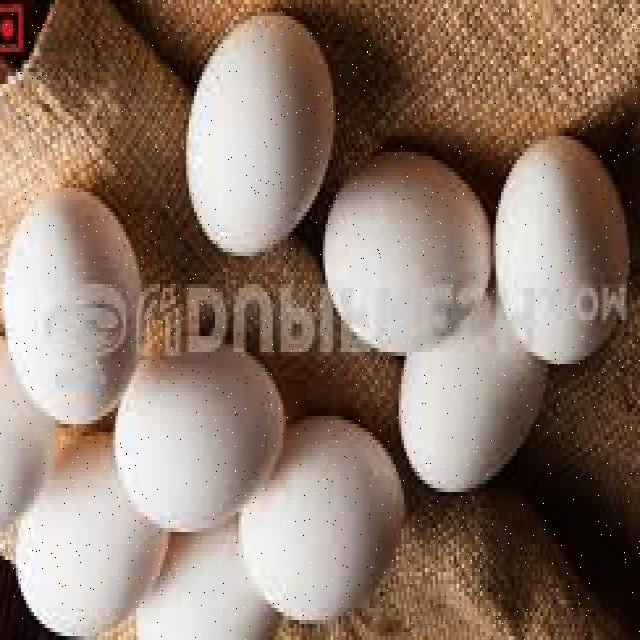White Egg: (186, 21, 342, 270), (3, 196, 158, 439), (99, 371, 288, 553), (314, 163, 486, 358), (240, 423, 404, 624), (404, 303, 560, 497), (505, 134, 625, 380)
